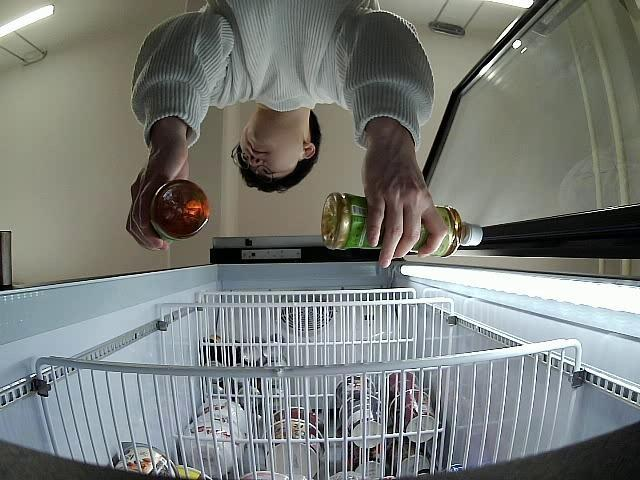19_17cha: (323, 192, 482, 257), (150, 179, 209, 240)
